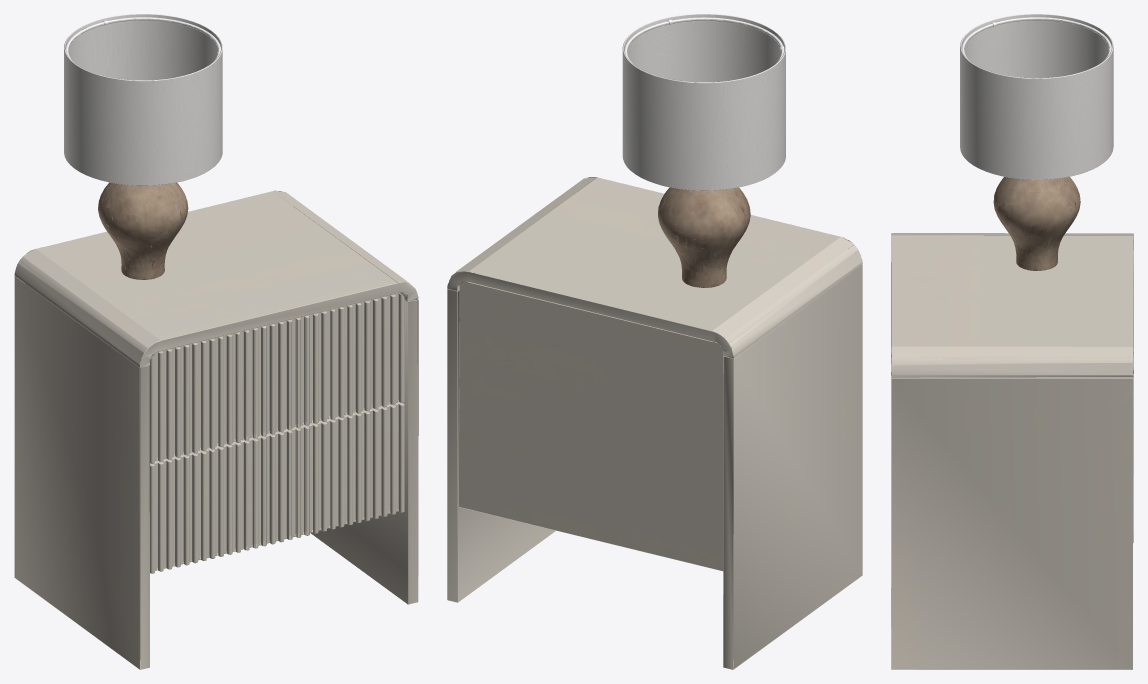
The model's file is buro.glb.
3 views of the same model, side by side, from view 1: azimuth 30°, elevation 25°; view 2: azimuth 150°, elevation 25°; view 3: azimuth 270°, elevation 25° (orthographic). The views are drawn at different scales.
Parts seen in each view (by area): view 1: Cube.001, Cylinder.007, Circle, Cylinder.002; view 2: Cube.001, Cylinder.007, Circle, Cylinder.002; view 3: Cube.001, Cylinder.007, Circle, Cylinder.002.
Part boxes in pixels (x1,y1,x2,y2): Cube.001: [14, 190, 418, 669]; Cylinder.007: [64, 14, 222, 185]; Circle: [98, 182, 188, 279]; Cylinder.002: [65, 17, 220, 61]; Cube.001: [447, 177, 862, 669]; Cylinder.007: [622, 14, 785, 190]; Circle: [658, 187, 750, 287]; Cylinder.002: [624, 17, 784, 64]; Cube.001: [891, 233, 1133, 669]; Cylinder.007: [960, 14, 1113, 179]; Circle: [993, 176, 1080, 270]; Cylinder.002: [961, 17, 1111, 60].
Bounding box in the file's own units: 0.5002 × 0.9402 × 0.3905.
Materials: 5 (3 with a texture image).
